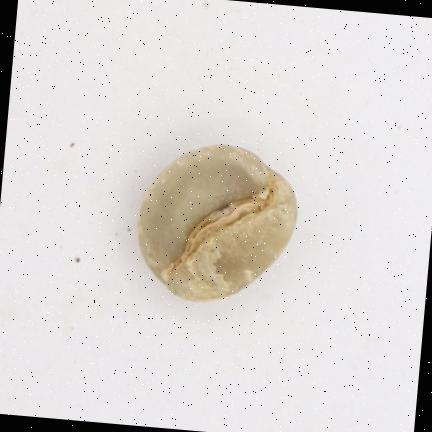husk: (138, 145, 296, 301)
